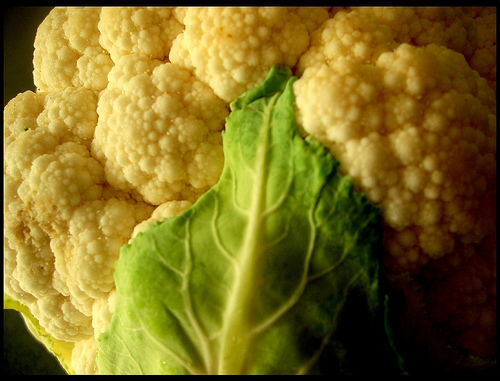cauliflower: (1, 1, 499, 380)
